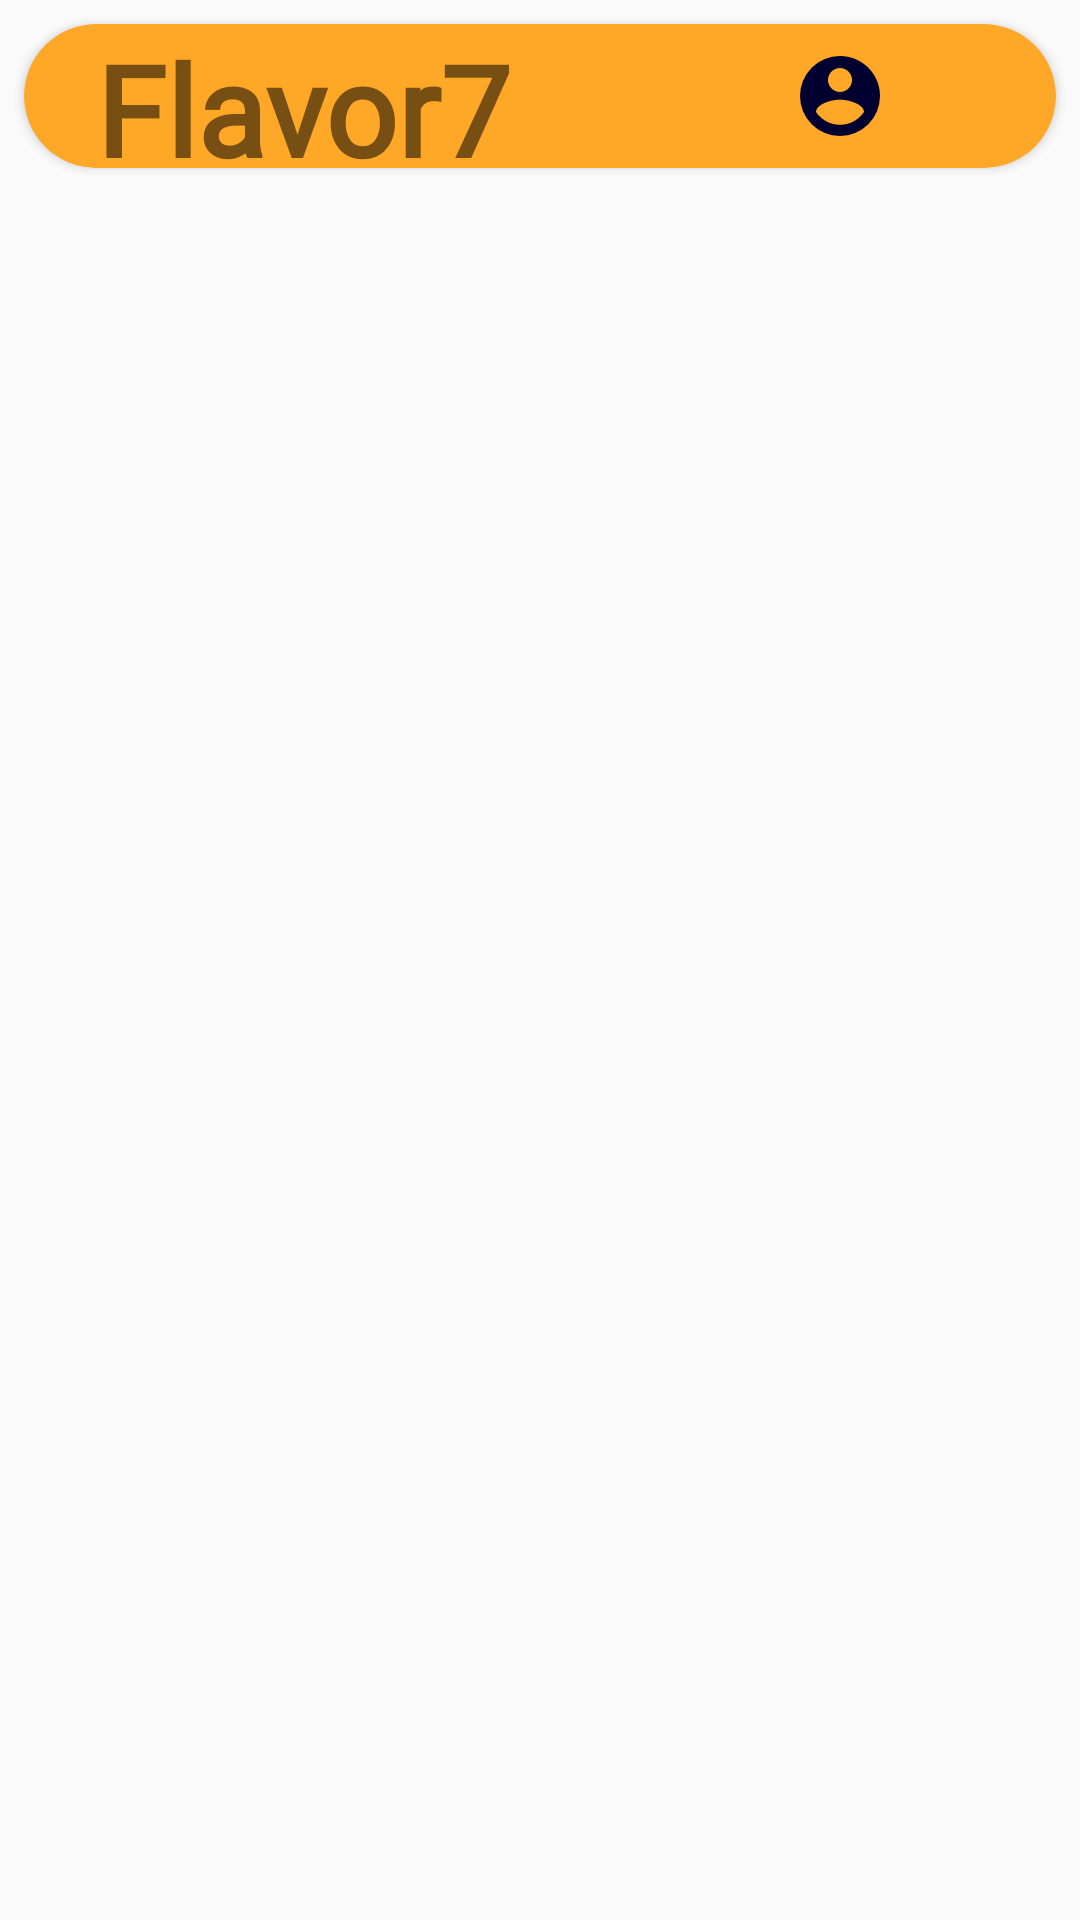

Icon click points for this 1080×1920 phone screenshot, format (x,y):
account menu: (840,96)
